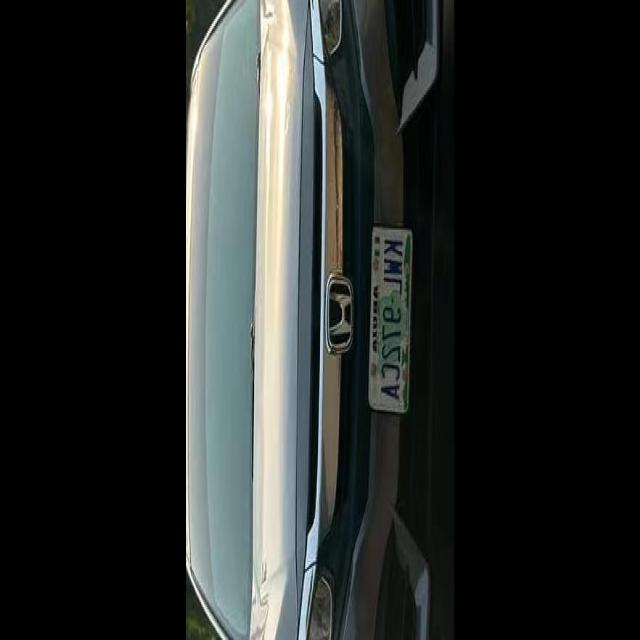Nigerian License Plate - vdataset benjamin-daria: (369, 223, 413, 412)
